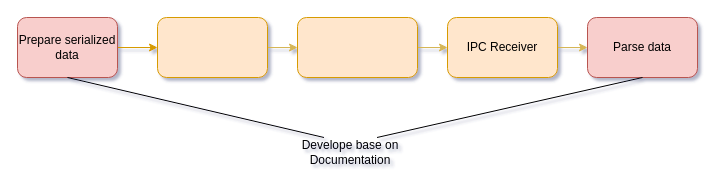
Image size: 721x191. Some labels were removed from this diagram. The centre of each missing label's shape, as x and y in pixels:
"IPC Sender" goes at point 212,47.
"KIPC" goes at point 357,47.
